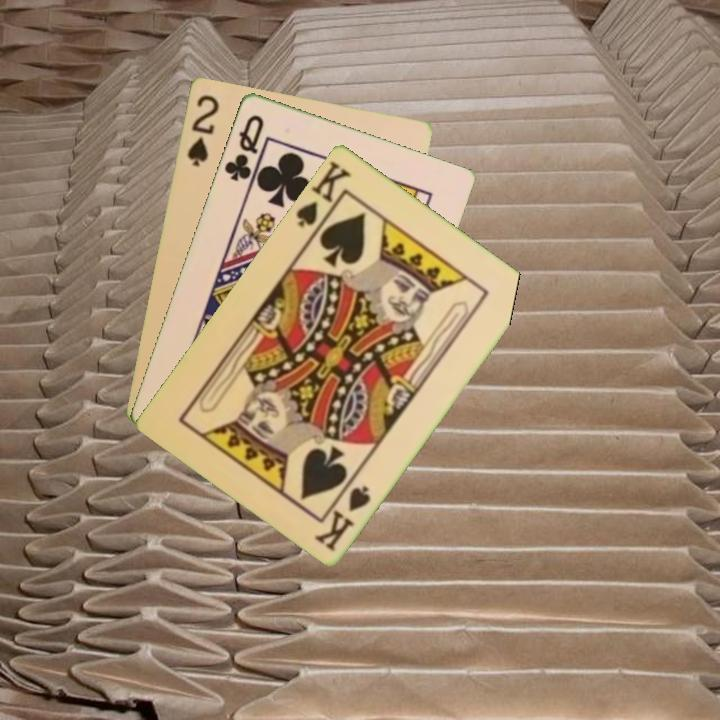2s: (183, 91, 222, 169)
Ks: (310, 481, 374, 554), (292, 157, 354, 230)
Qc: (220, 110, 267, 184)
